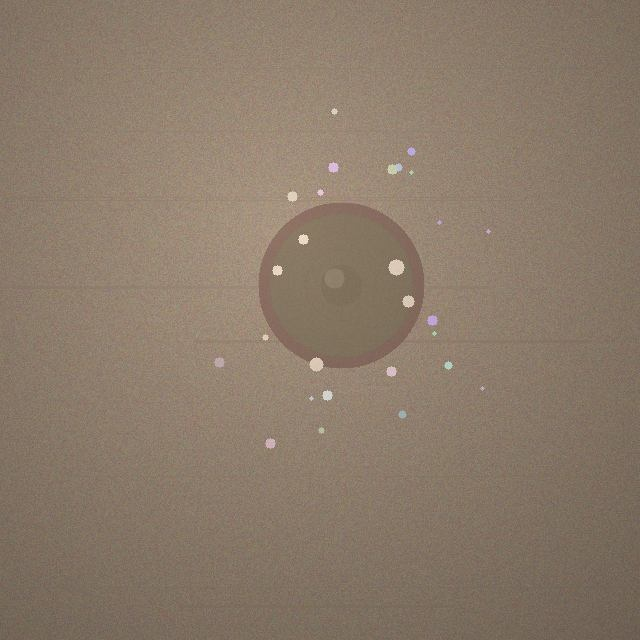overburn: (258, 202, 424, 368)
